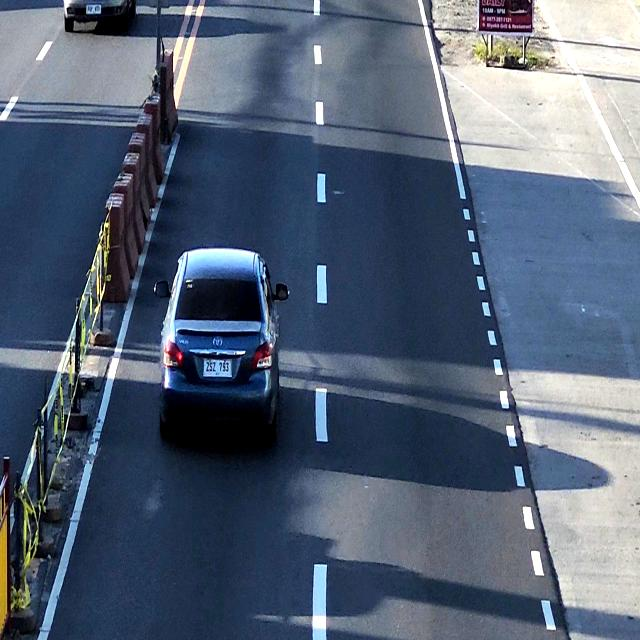Car: (157, 247, 284, 433)
License-Plate: (202, 356, 234, 381)
